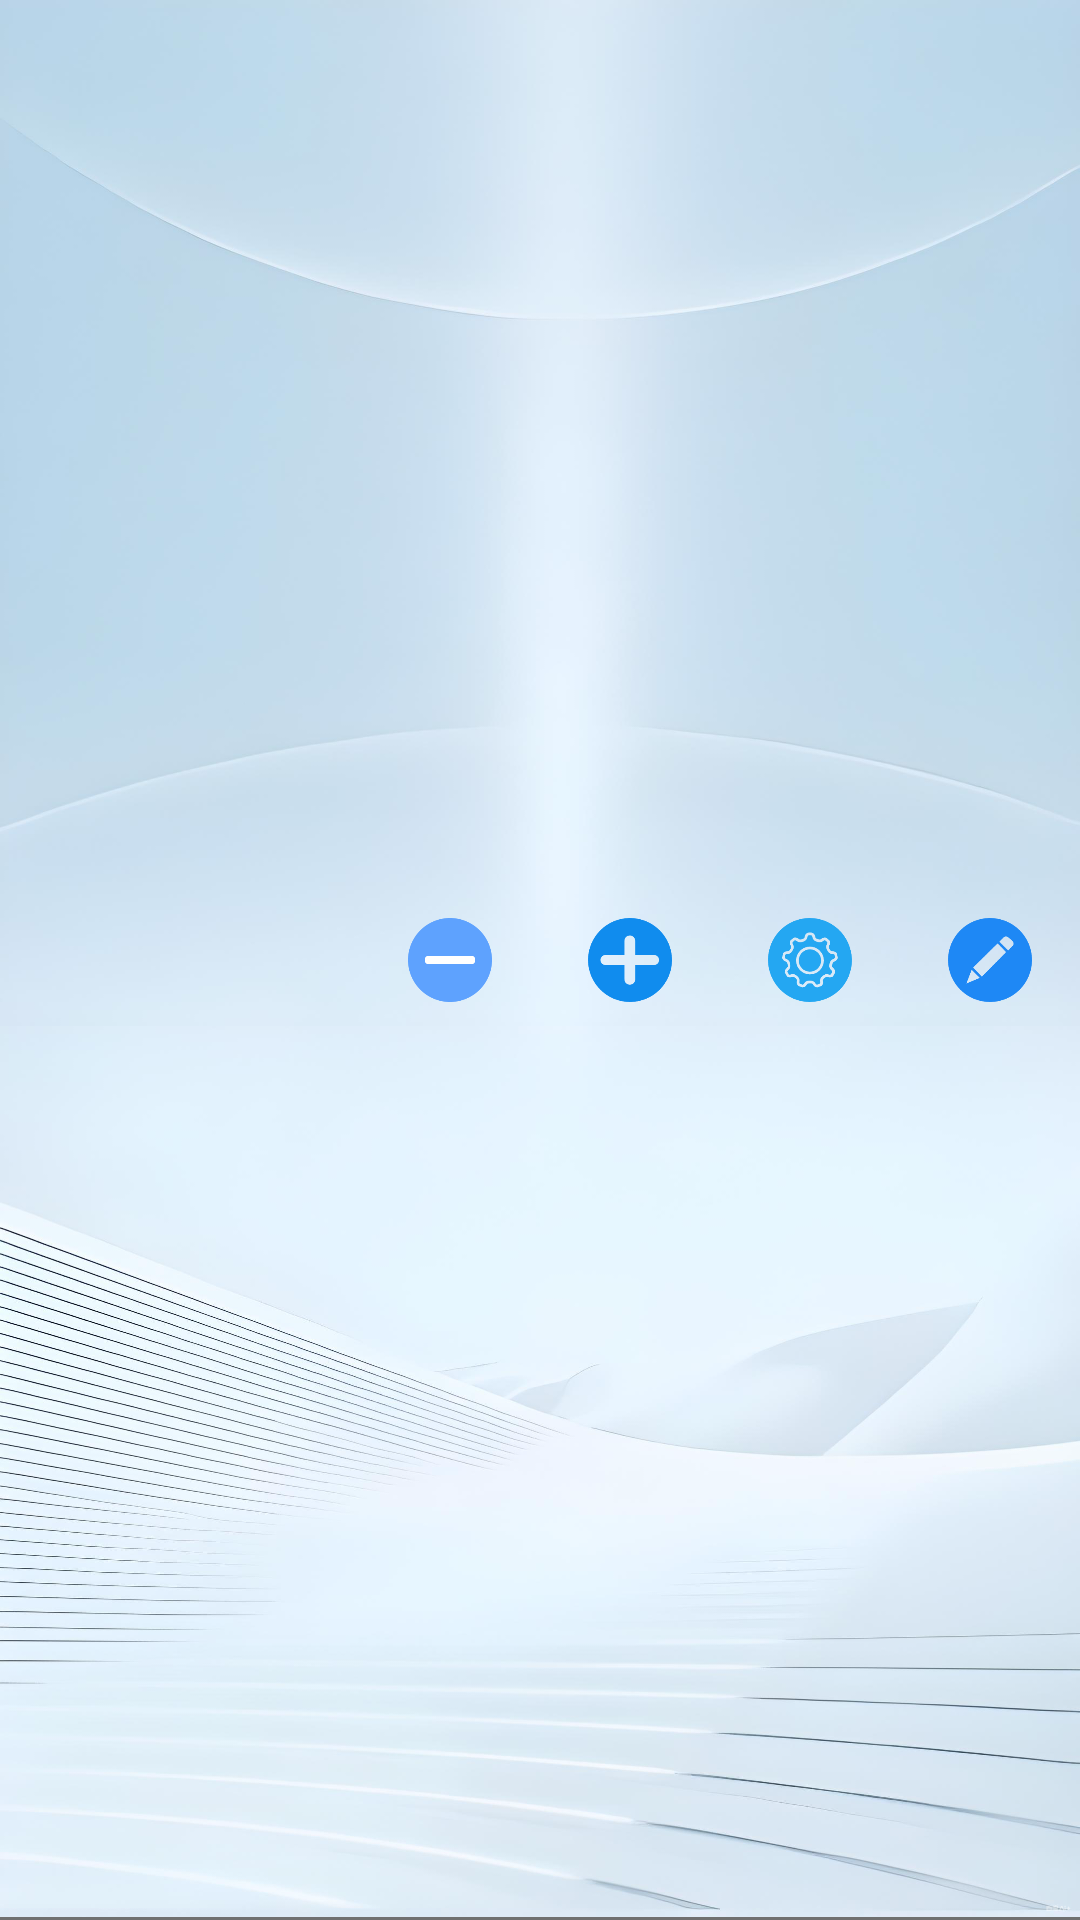

Where icons sit on this 1080×1920 app screen, as region(x1, y1, x2, y2):
add: region(588, 918, 672, 1002)
reduce: region(408, 918, 492, 1002)
set: region(768, 918, 852, 1002)
update: region(948, 918, 1032, 1002)
